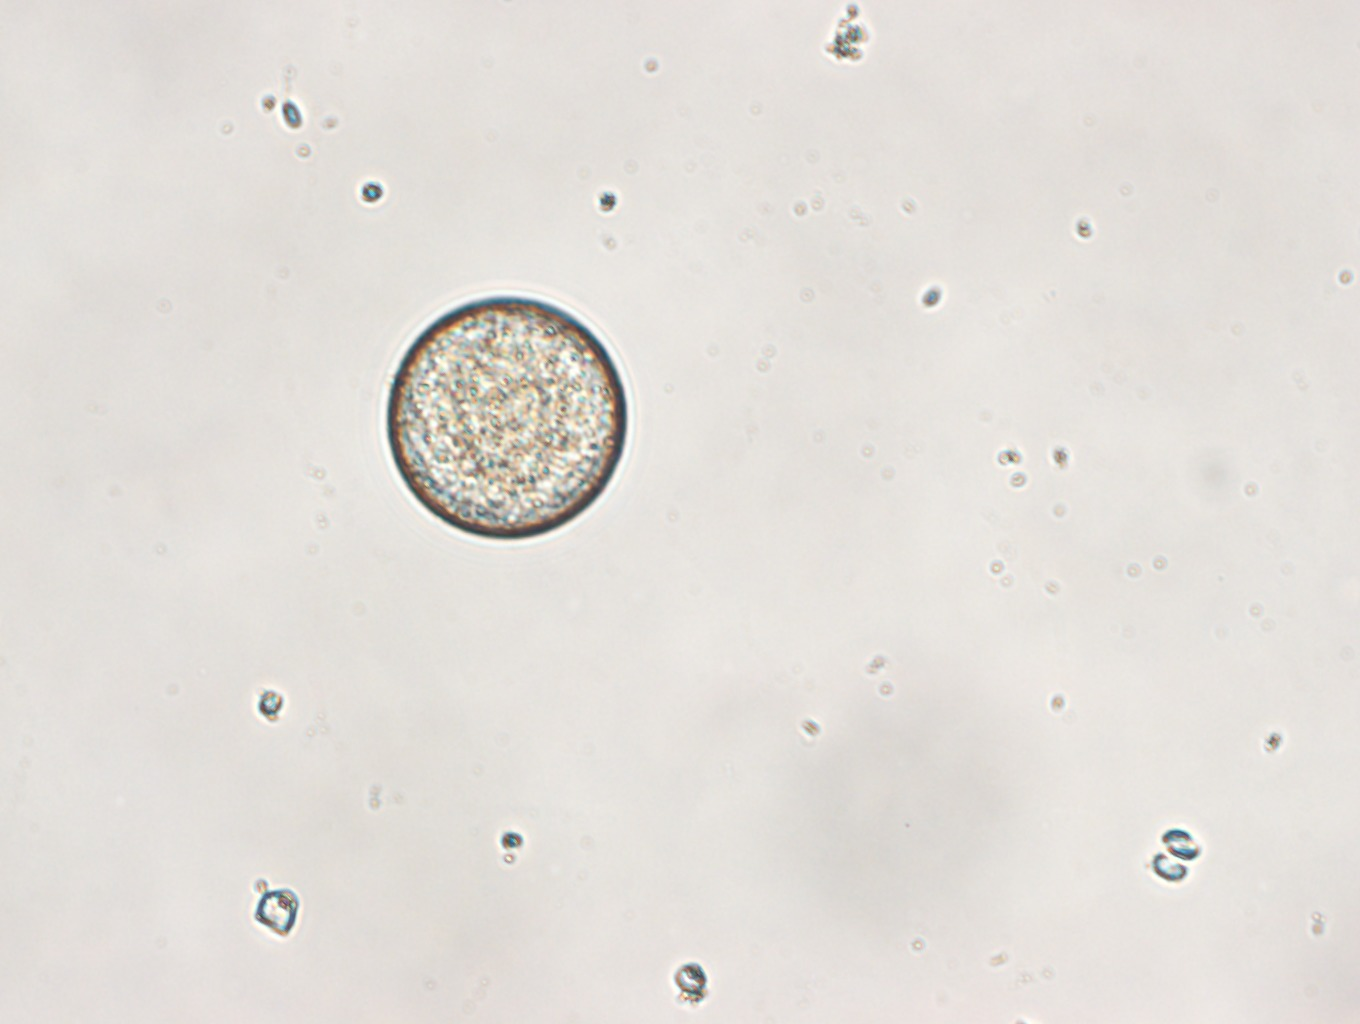coscinodiscus: (375, 289, 634, 556)
